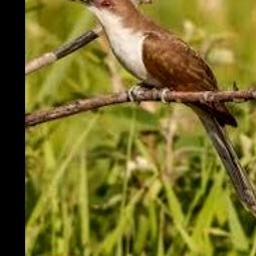Cuckoo: (65, 0, 256, 217)
